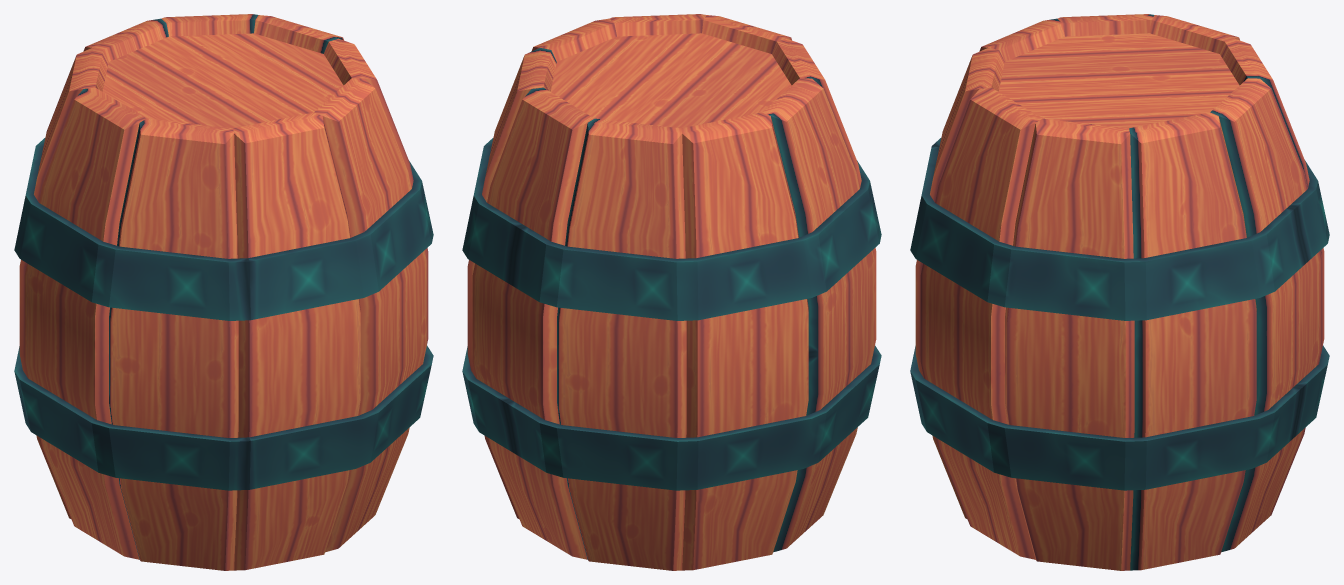
Rendered from Barrel.fbx.
3 renders of one model, left to right at view 1: azimuth 30°, elevation 25°; view 2: azimuth 150°, elevation 25°; view 3: azimuth 270°, elevation 25°, orthographic.
Parts seen in each view (by area): view 1: Barrell010; view 2: Barrell010; view 3: Barrell010.
Boxes of the visible parts, x1,y1,x2,y2 form: Barrell010: [14, 14, 433, 570]; Barrell010: [462, 14, 881, 570]; Barrell010: [910, 14, 1329, 570].
Bounding box in the file's own units: 69.53 × 80 × 69.59.
